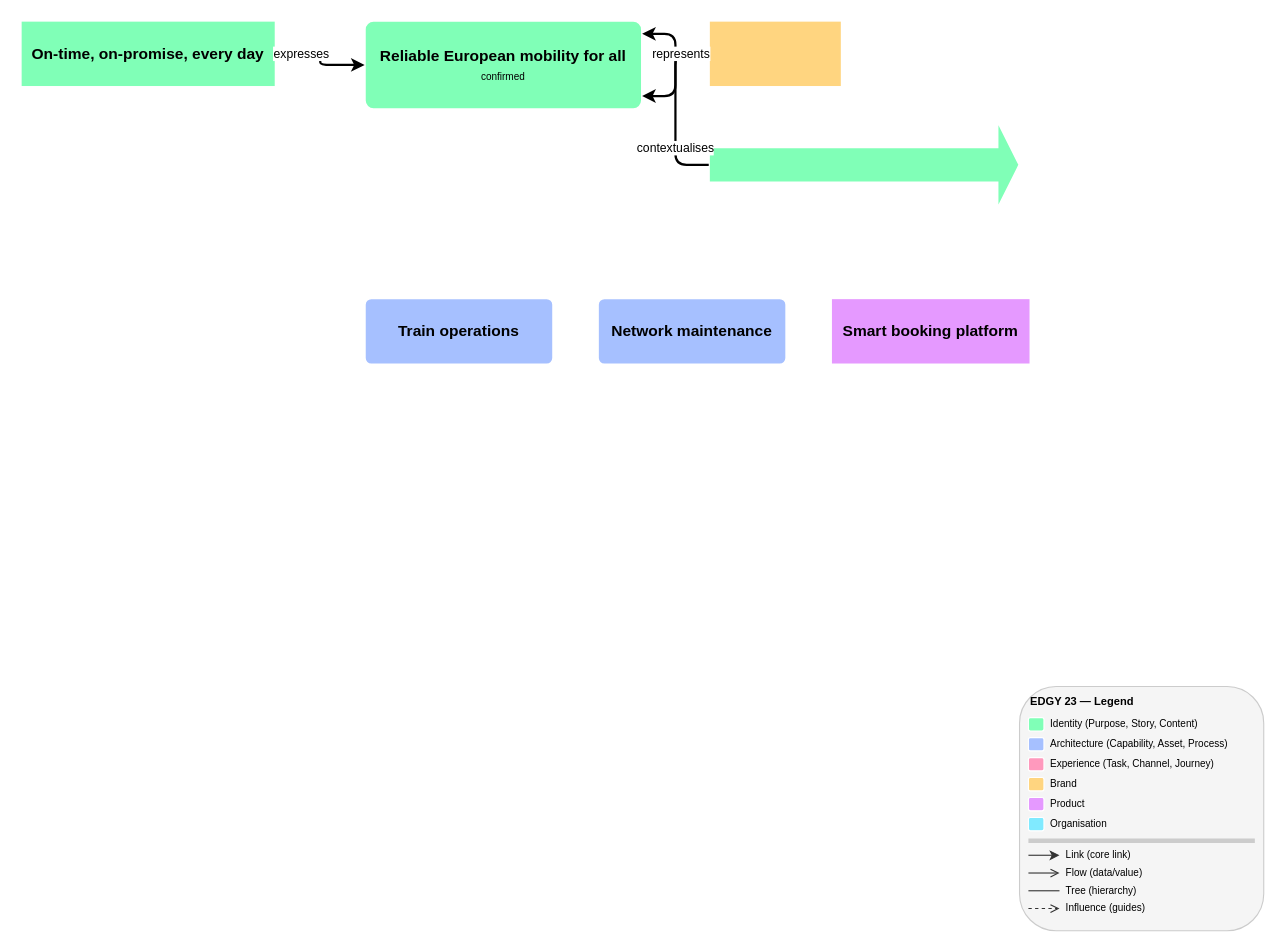
Image size: 1283x950. Some labels were removed from this diagram. The box of each missing label's shape, as (x1, y1, x2, y2) in pixels:
From regional rail to international high-speed: (707, 119, 1020, 210)
Nordic Trains: (707, 19, 842, 88)
